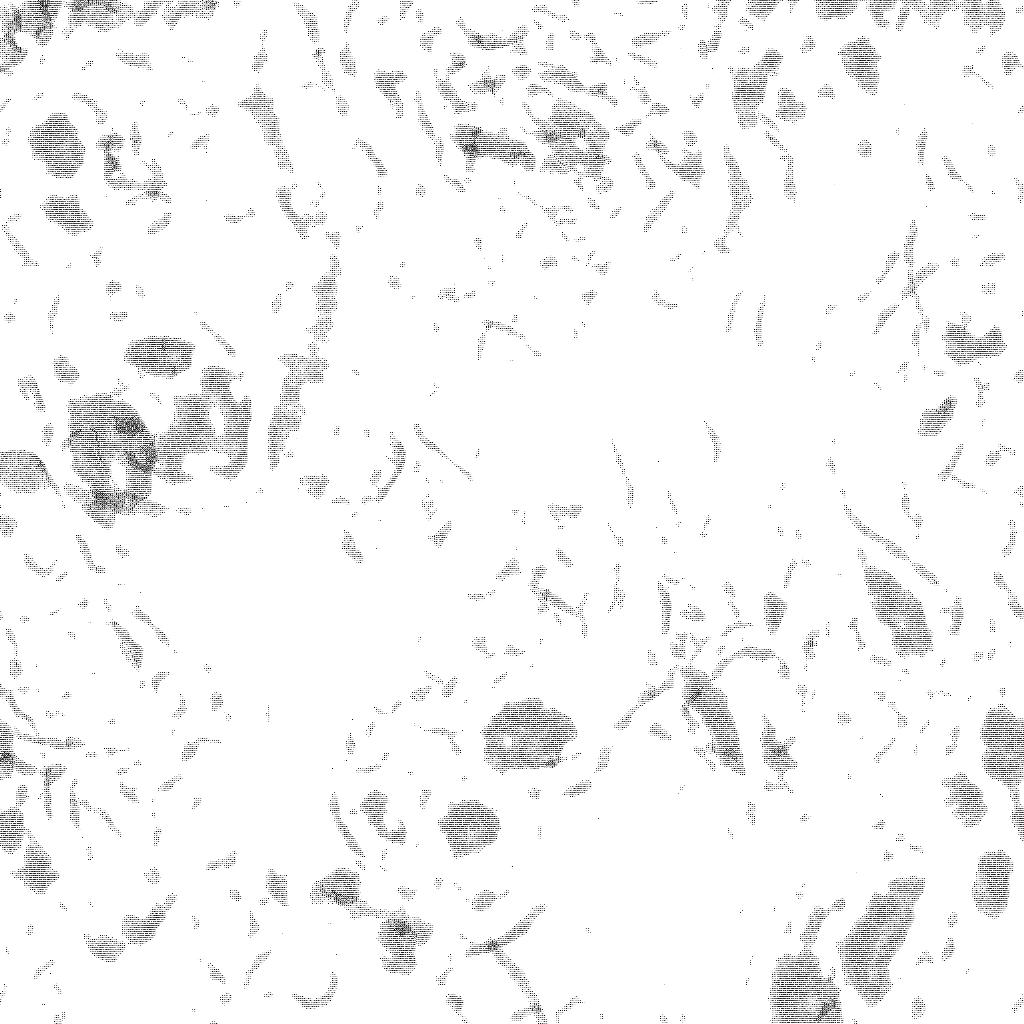axone: (836, 869, 934, 1014), (56, 390, 163, 514), (848, 557, 946, 675), (674, 660, 754, 787), (477, 697, 583, 779), (961, 840, 1024, 927), (433, 792, 507, 866), (368, 906, 441, 980), (24, 109, 95, 184), (972, 696, 1024, 793), (112, 328, 200, 383), (833, 24, 891, 106), (722, 49, 781, 127), (1, 443, 57, 516), (7, 832, 67, 900), (937, 770, 991, 836), (304, 861, 370, 911), (35, 189, 99, 240)
